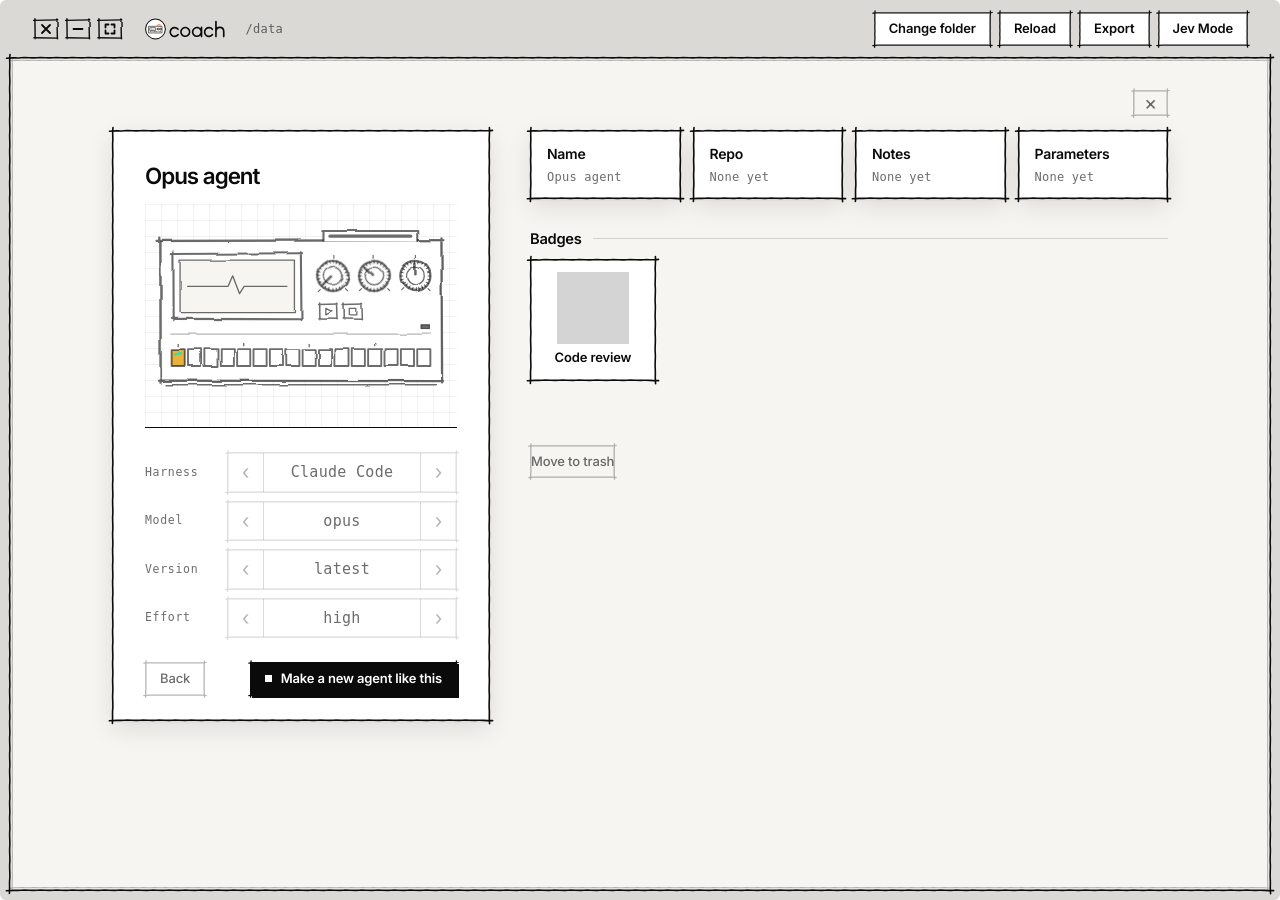
Scenario: AgentDetail › renaming saves through updateProfile and returns to the agent
This screenshot has width=1280, height=900.
Click the button "Name Opus agent": (605, 164) [530,130,680,198]
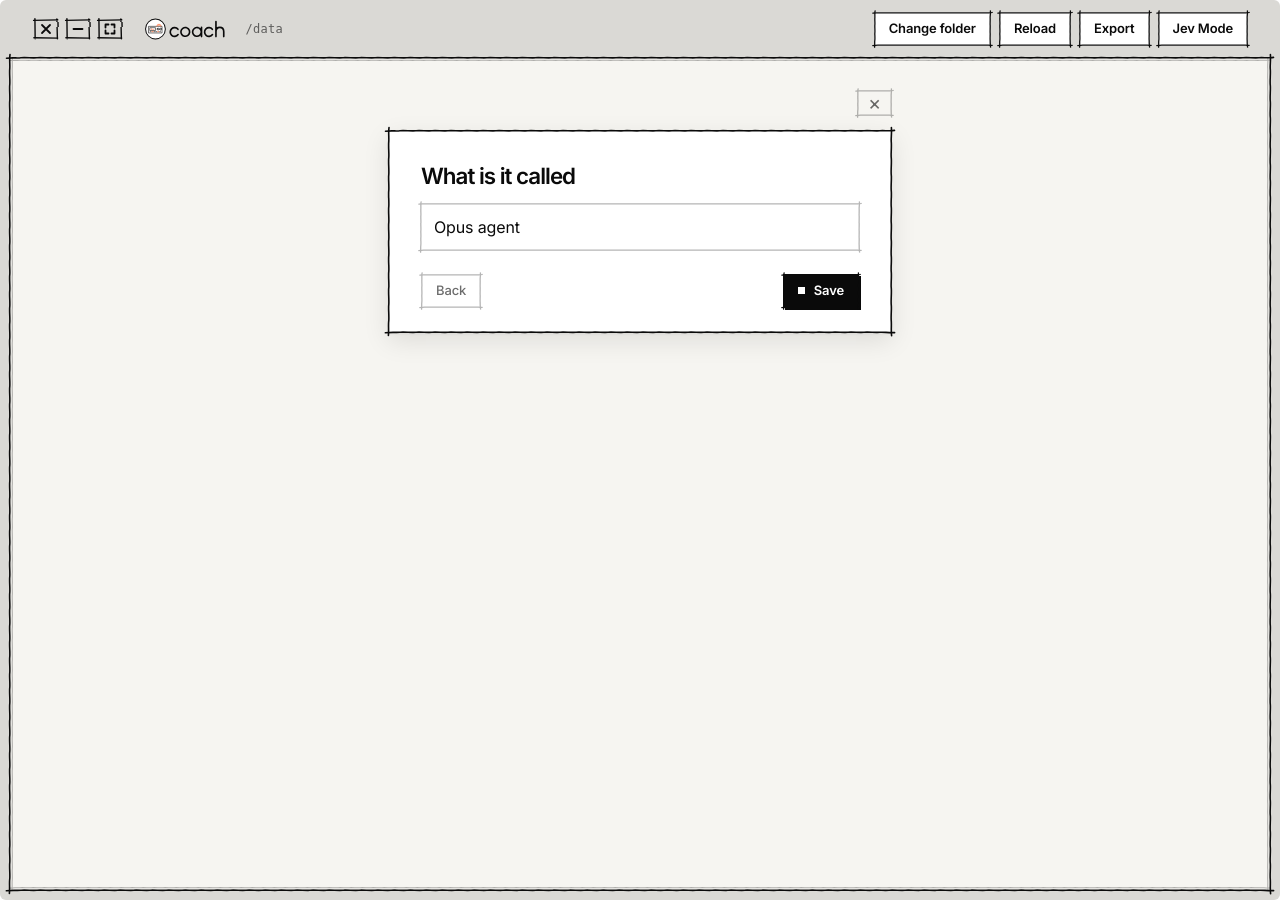
expect the heading "What is it called" is shown: met, box [421,162,575,188]
Replace the text in the field named "Name" with "Reviewer": (640, 227) [421,204,859,250]
Then press Enter
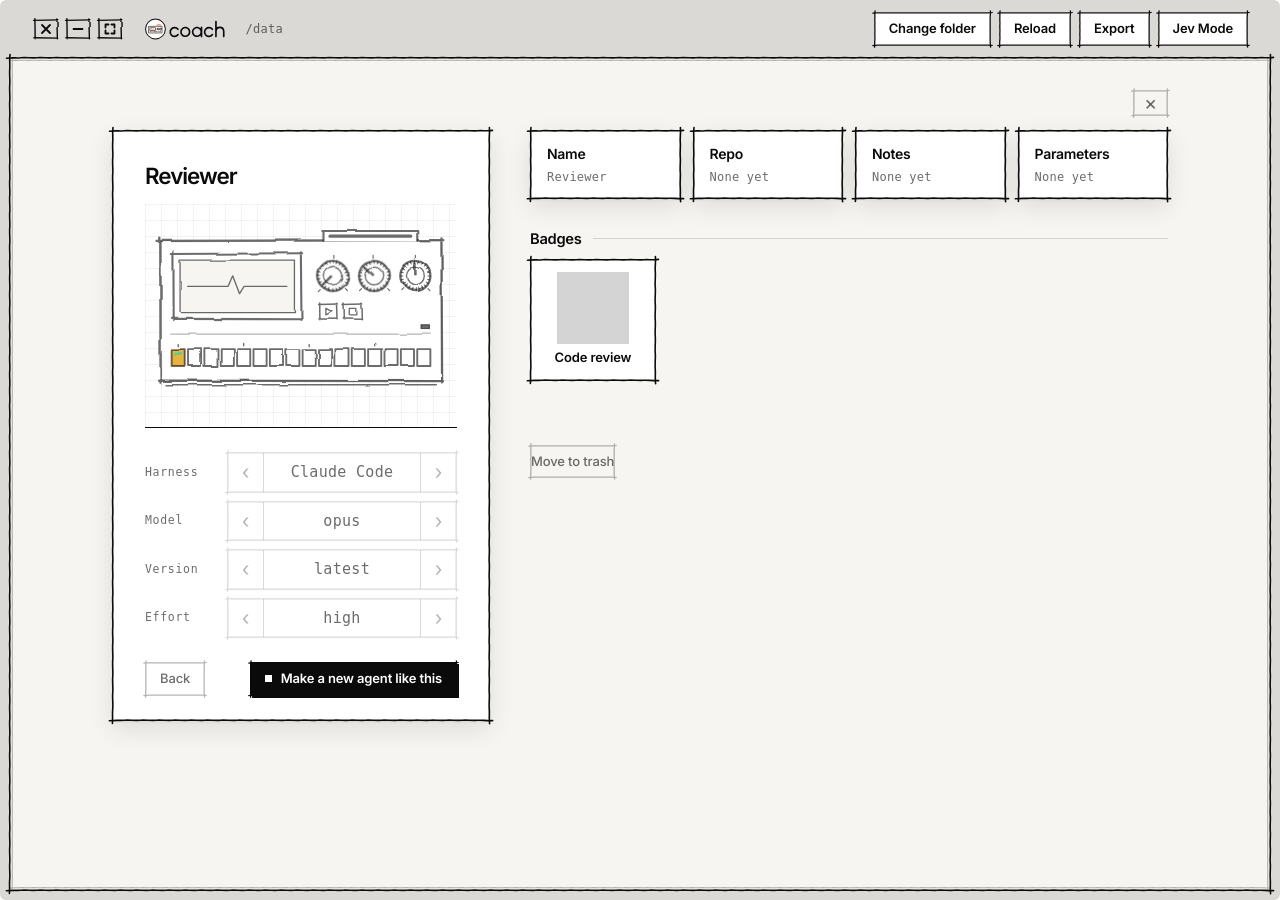
expect the heading "Reviewer" is shown: met, box [145,162,237,188]
